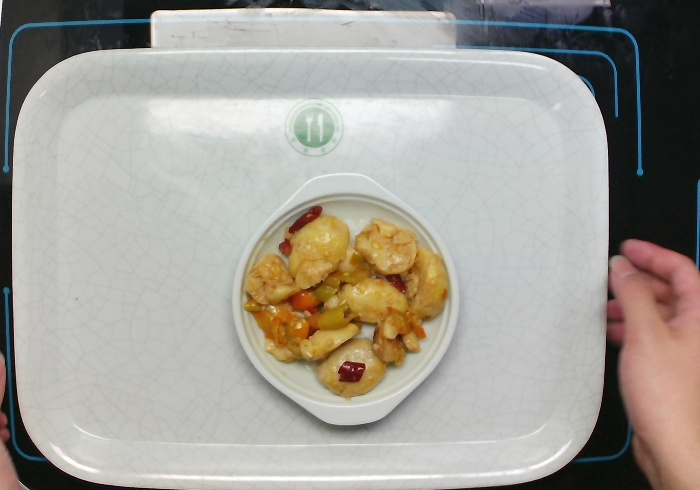JYsf-Shuang_Er_Pan: (228, 172, 459, 433)
